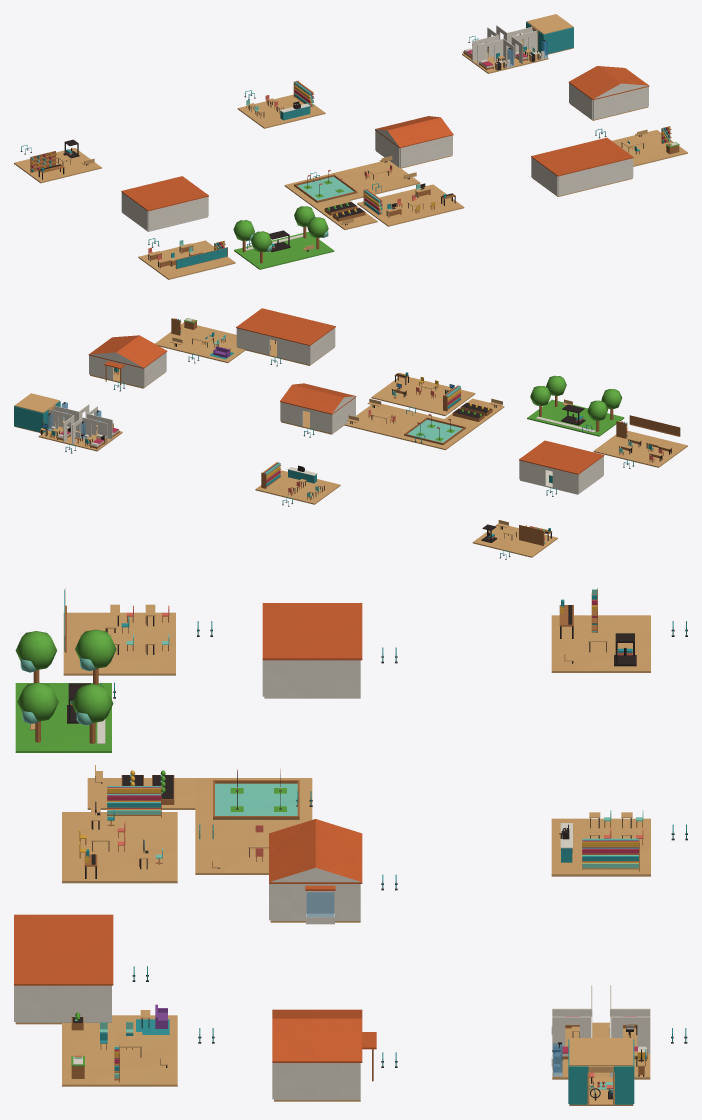
The model's file is block.gltf.
3 views of the same model, one above another, from view 1: azimuth 30°, elevation 25°; view 2: azimuth 150°, elevation 25°; view 3: azimuth 270°, elevation 25° (orthographic). The views are drawn at different scales.
Parts seen in each view (by area): view 1: cy_floor, rc_roof, of_floor, gr_roof, oak_gable, pk_floor, rc_wall_n, willow_gable, sc_floor, gr_wall_n, cf_floor, cr_floor (+15 smaller); view 2: cy_floor, rc_roof, of_floor, cr_floor, gr_roof, sc_floor, oak_gable, willow_gable, pk_floor, cf_floor, ws_floor, cy_minigolf (+16 smaller); view 3: of_floor, rc_roof, cy_floor, cr_floor, gr_roof, willow_gable, sc_floor, oak_gable, ws_floor, gr_wall_e, pk_floor, rc_wall_e (+12 smaller).
Boxes of the visible parts, left/top/right/bottom form: cy_floor: left=284, top=160, right=420, bottom=229; rc_roof: left=531, top=137, right=633, bottom=176; of_floor: left=357, top=184, right=464, bottom=226; gr_roof: left=121, top=176, right=208, bottom=211; oak_gable: left=569, top=66, right=648, bottom=99; pk_floor: left=234, top=231, right=334, bottom=269; rc_wall_n: left=558, top=158, right=632, bottom=196; willow_gable: left=375, top=116, right=452, bottom=147; sc_floor: left=138, top=240, right=235, bottom=279; gr_wall_n: left=148, top=197, right=208, bottom=230; cf_floor: left=237, top=94, right=325, bottom=128; cr_floor: left=612, top=130, right=687, bottom=166; cy_floor: left=344, top=398, right=504, bottom=450; rc_roof: left=236, top=308, right=335, bottom=345; of_floor: left=371, top=377, right=475, bottom=416; cr_floor: left=155, top=322, right=245, bottom=362; gr_roof: left=519, top=440, right=604, bottom=474; sc_floor: left=593, top=430, right=687, bottom=467; oak_gable: left=89, top=335, right=166, bottom=367; willow_gable: left=280, top=383, right=355, bottom=413; pk_floor: left=527, top=399, right=624, bottom=436; cf_floor: left=255, top=470, right=340, bottom=504; ws_floor: left=472, top=525, right=557, bottom=557; cy_minigolf: left=404, top=414, right=465, bottom=444; of_floor: left=62, top=812, right=177, bottom=883; rc_roof: left=14, top=914, right=113, bottom=985; cy_floor: left=87, top=778, right=312, bottom=874; cr_floor: left=62, top=1015, right=177, bottom=1086; gr_roof: left=262, top=603, right=362, bottom=660; willow_gable: left=269, top=819, right=362, bottom=882; sc_floor: left=63, top=612, right=175, bottom=675; oak_gable: left=272, top=1009, right=362, bottom=1061; ws_floor: left=551, top=615, right=650, bottom=672; gr_wall_e: left=264, top=660, right=360, bottom=697; pk_floor: left=15, top=683, right=111, bottom=752; rc_wall_e: left=15, top=985, right=111, bottom=1022.
Size of the model in its own units: 72.58 by 4.2 by 42.01.
Materials: 23 (23 with a texture image).
